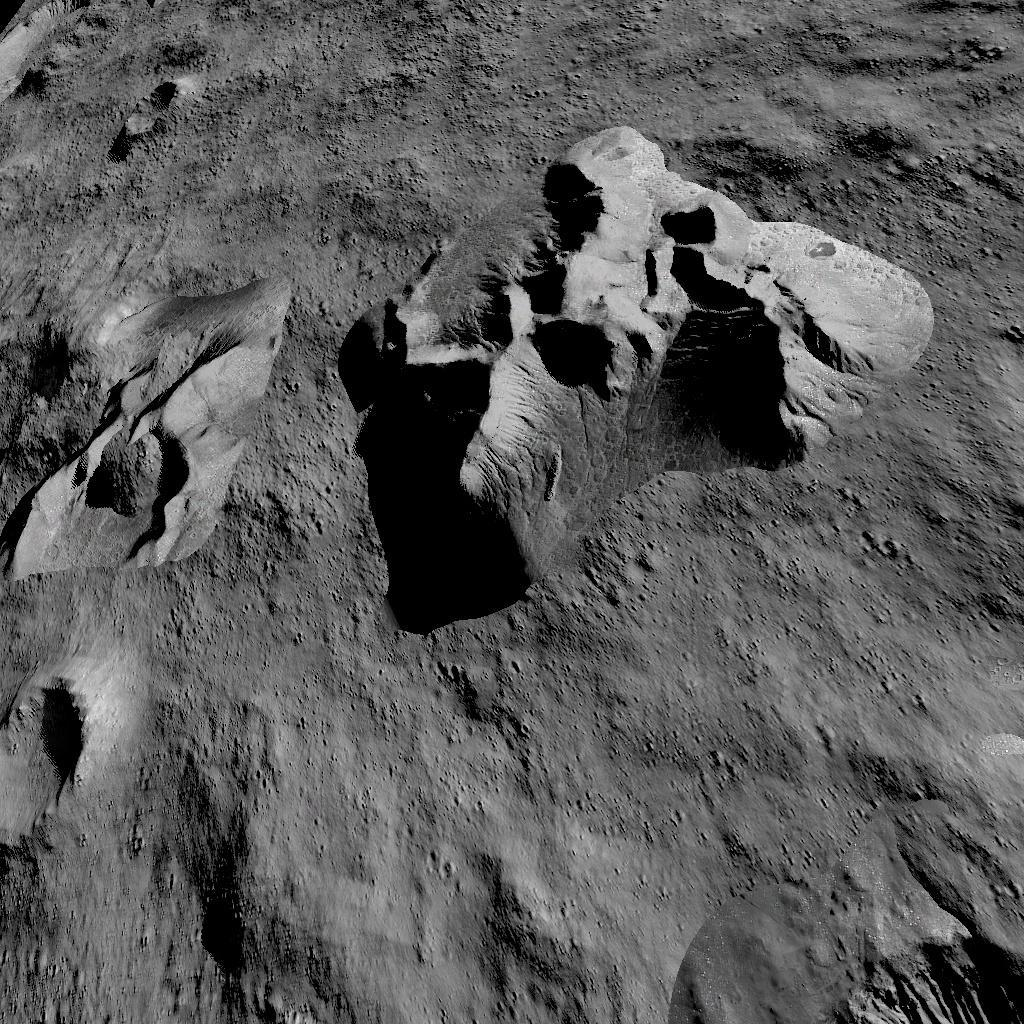Boulders: (325, 121, 950, 639)
Crater: (0, 294, 252, 594), (0, 652, 113, 850), (819, 923, 1024, 1024), (0, 0, 91, 91), (108, 71, 208, 152)
Plan surface: (168, 662, 796, 1014), (245, 0, 1024, 93), (829, 658, 1024, 908), (0, 168, 252, 275)
